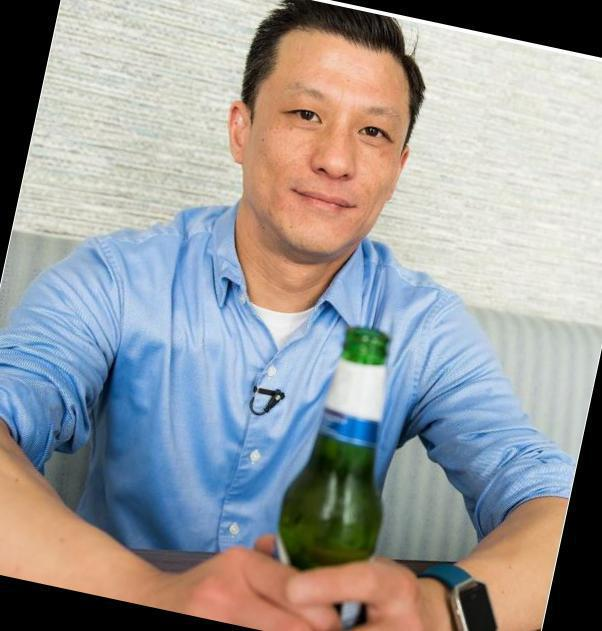Sober: (258, 26, 400, 245)
